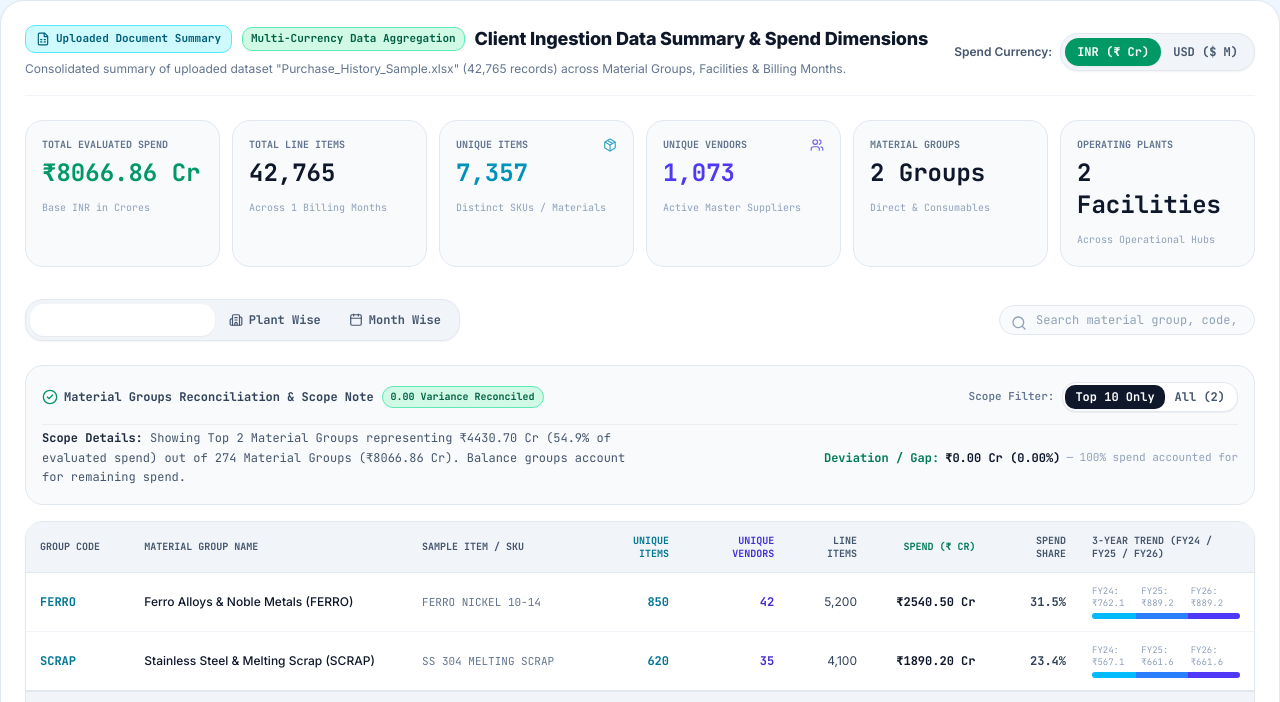
Test case: DocumentSummaryView Component › filters and displays USD currency in Plant view and handles empty plant search
This screenshot has width=1280, height=702.
// Switch to Plant tab
Click the button "Plant Wise". click: {"x": 275, "y": 320}
box: [215,304,335,336]
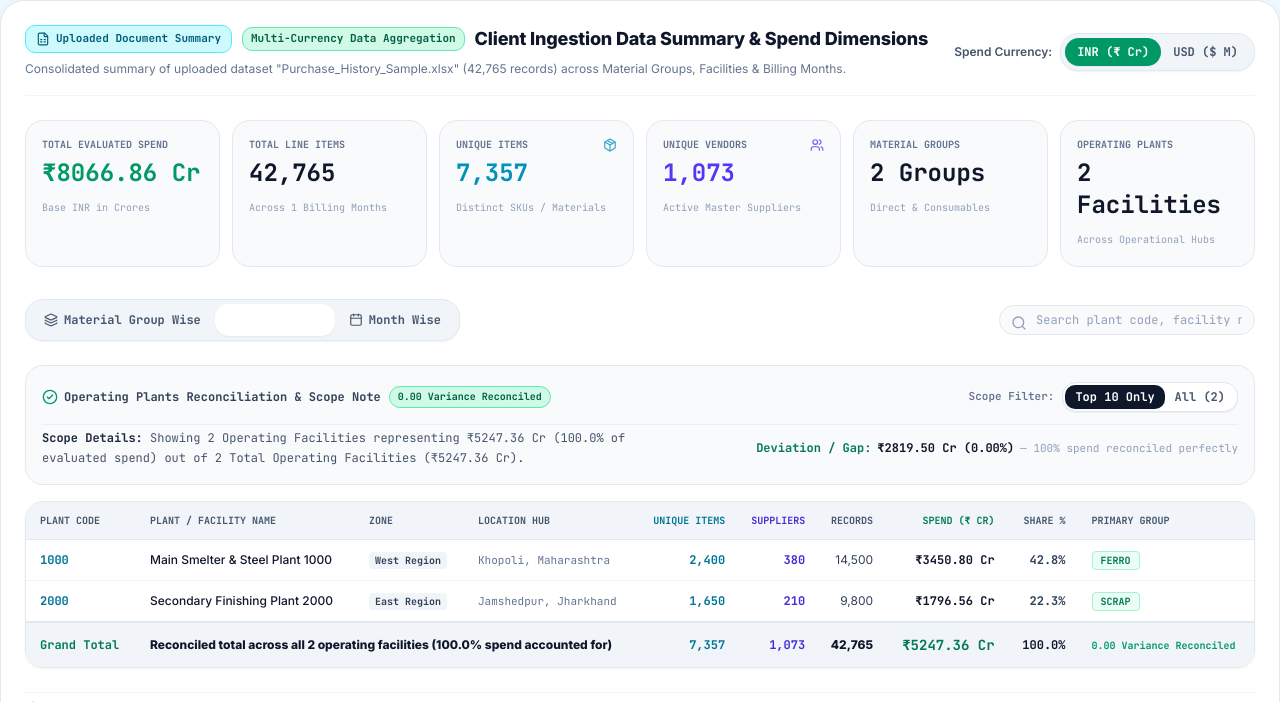
// Switch to USD
Click the button "USD ($ M)". click: {"x": 1206, "y": 52}
box: [1161,38,1250,66]
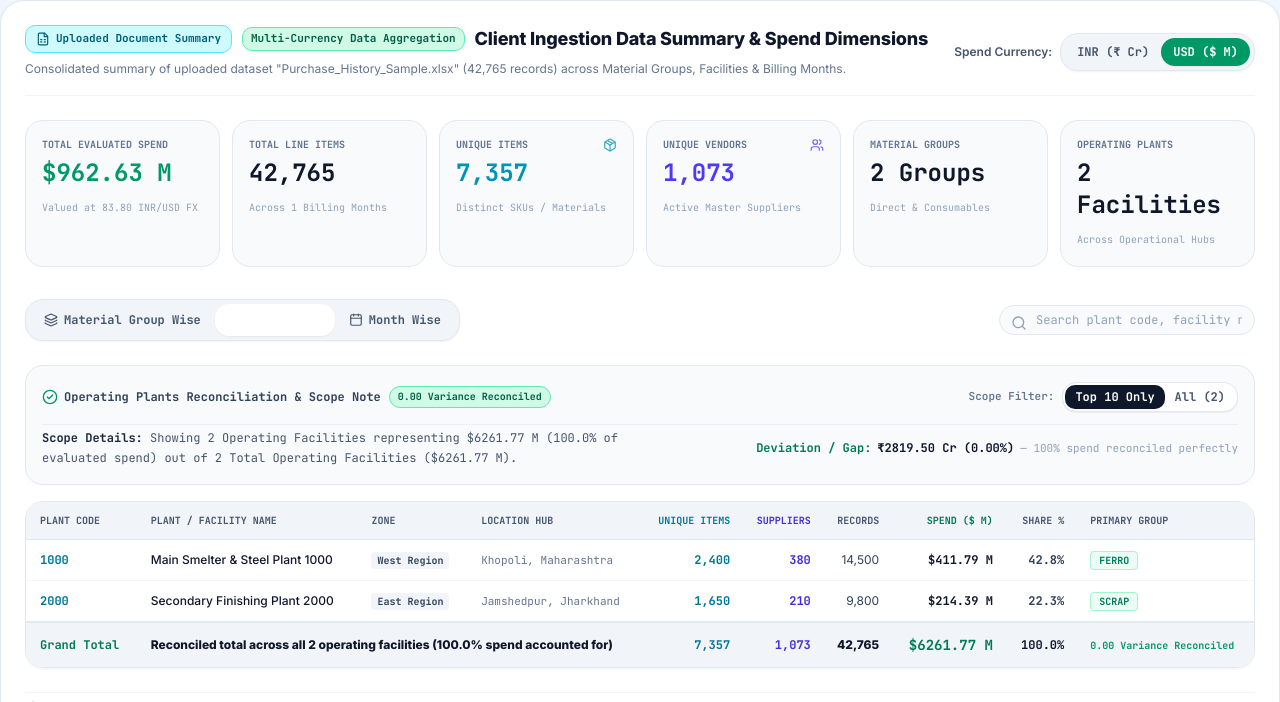
// Search plant by location / region
Type "Khopoli" into the field with placeholder "Search plant code, facility name, or location...". click: {"x": 1127, "y": 320}
box: [999,305,1255,335]
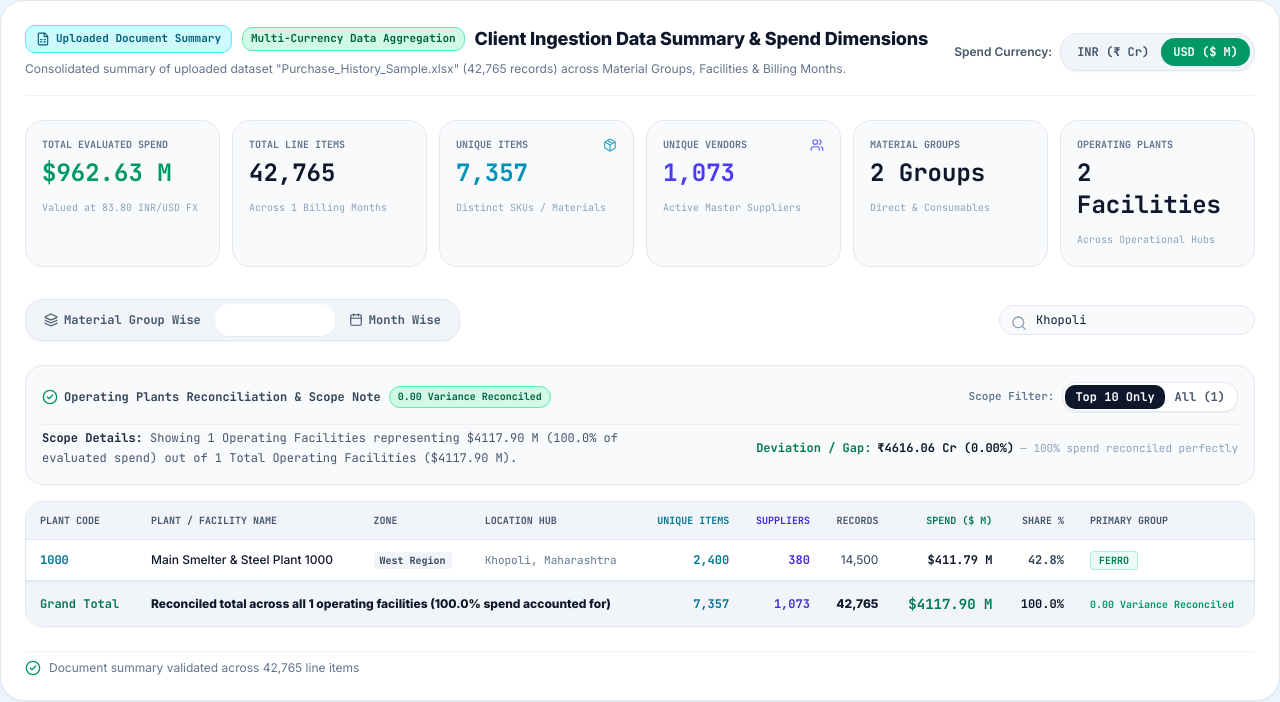
Check: the text "Main Smelter & Steel Plant 1000" is shown, box [137,540,362,581]
// Search with non-matching string in Plant view
Replace the text in the field with placeholder "Search plant code, facility name, or location..." with "NON_EXISTENT_PLANT_QUERY". click: {"x": 1127, "y": 320}
box: [999,305,1255,335]
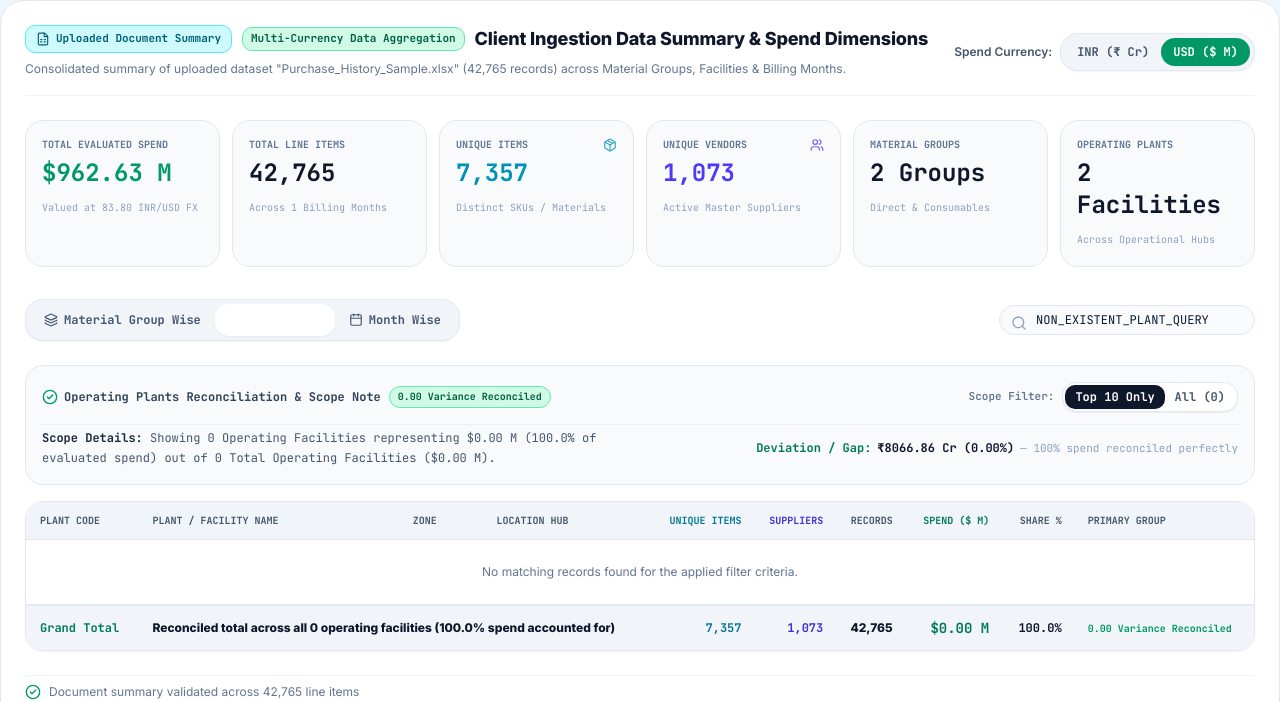
Check: the text "No matching records found for the applied filter criteria." is shown, box [26,540,1254,605]
